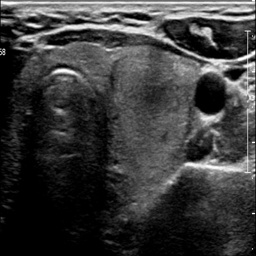mass: (111, 55, 194, 187)
